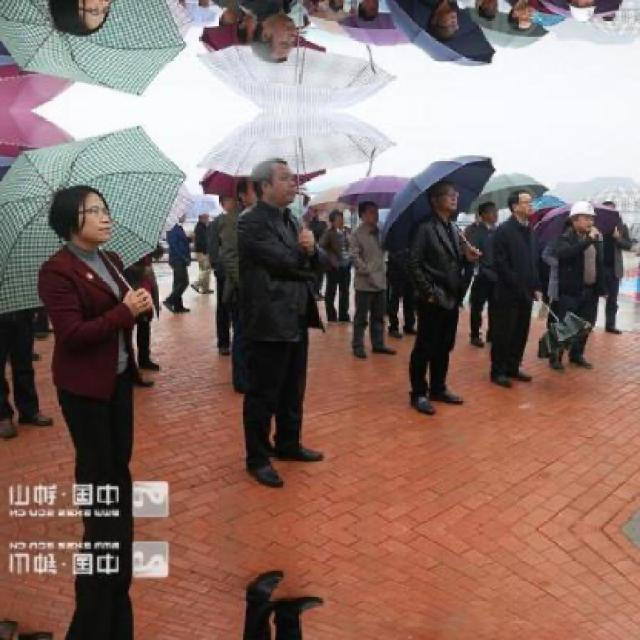con casco: (561, 199, 603, 220), (566, 0, 592, 25)
sin casco: (43, 182, 118, 244), (42, 0, 115, 44), (246, 17, 302, 70), (255, 160, 295, 206), (496, 193, 545, 229), (418, 14, 469, 44), (496, 5, 543, 37), (418, 185, 453, 211), (350, 200, 384, 224)
